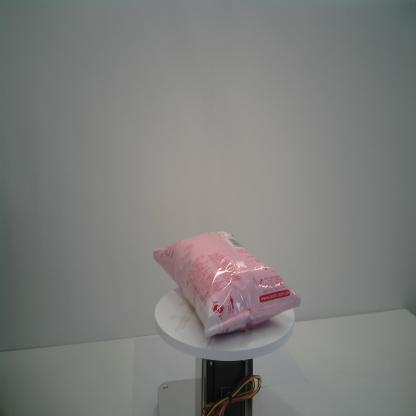Puffed Food: (152, 230, 301, 339)
